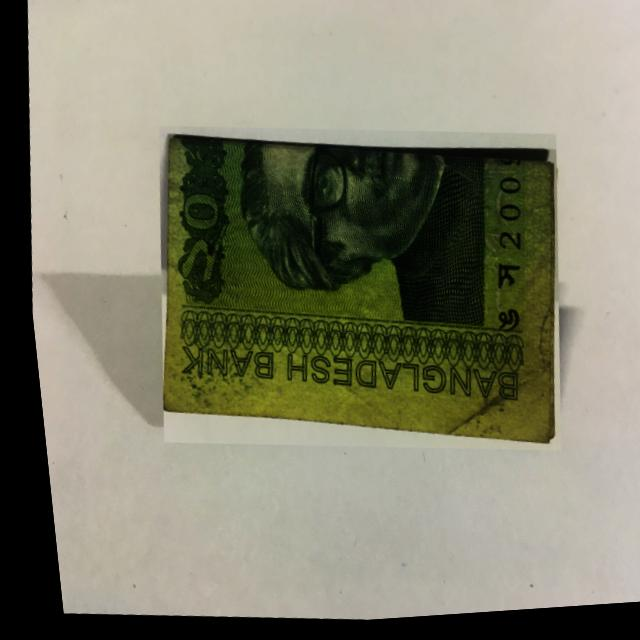Taka: (128, 107, 578, 478)
